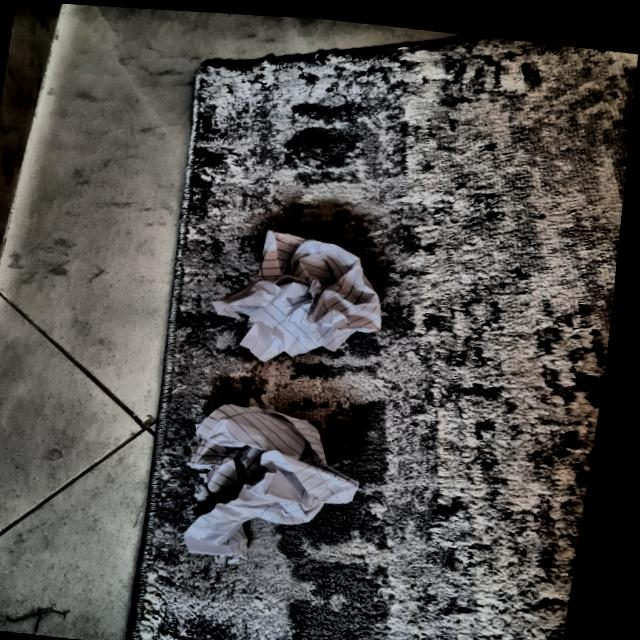Paper: (180, 399, 361, 573), (227, 231, 393, 368)
